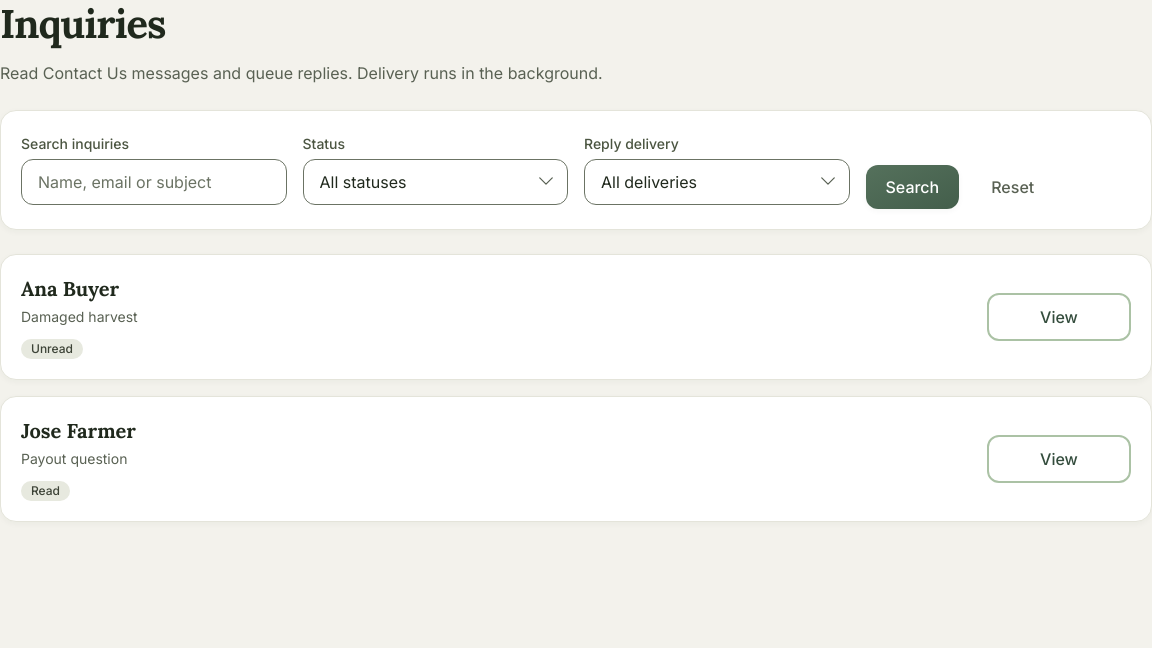
Test case: AdminInquiriesPage.vue › clears the draft when another inquiry is selected
This screenshot has width=1152, height=648.
Click the button "View" in the row of "Damaged harvest" at (1059, 317), box [987, 293, 1131, 341]
(page scrolled)
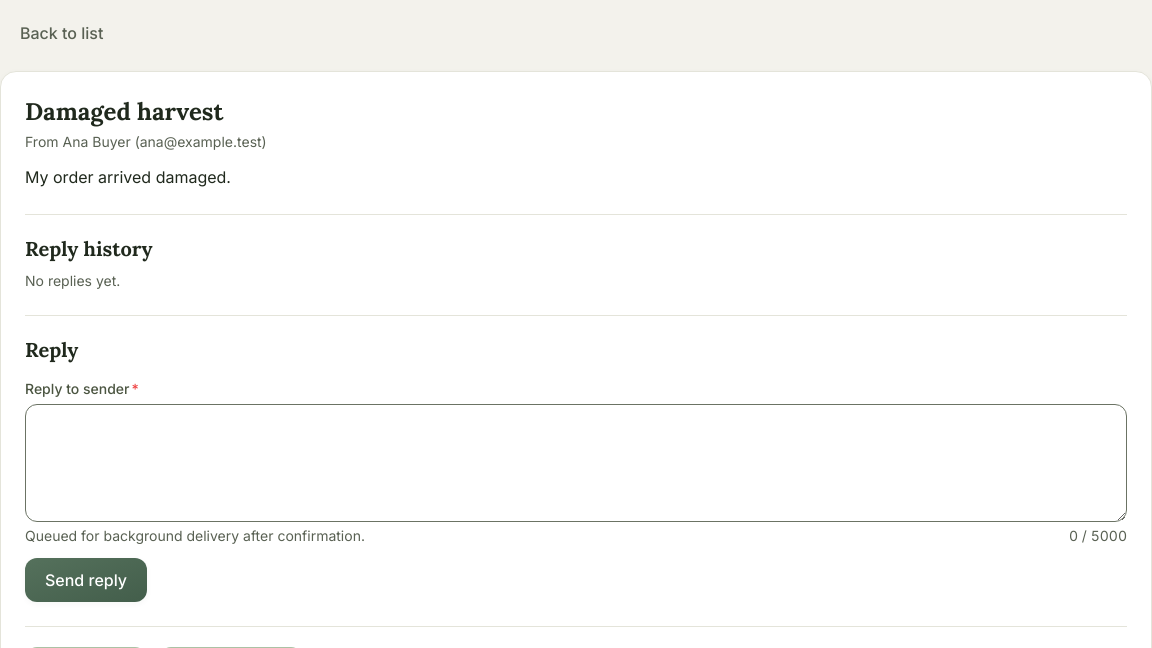
Type "Unsent draft." into the text box with id "admin-inquiry-reply" at (576, 463), box [25, 404, 1127, 522]
(page scrolled)
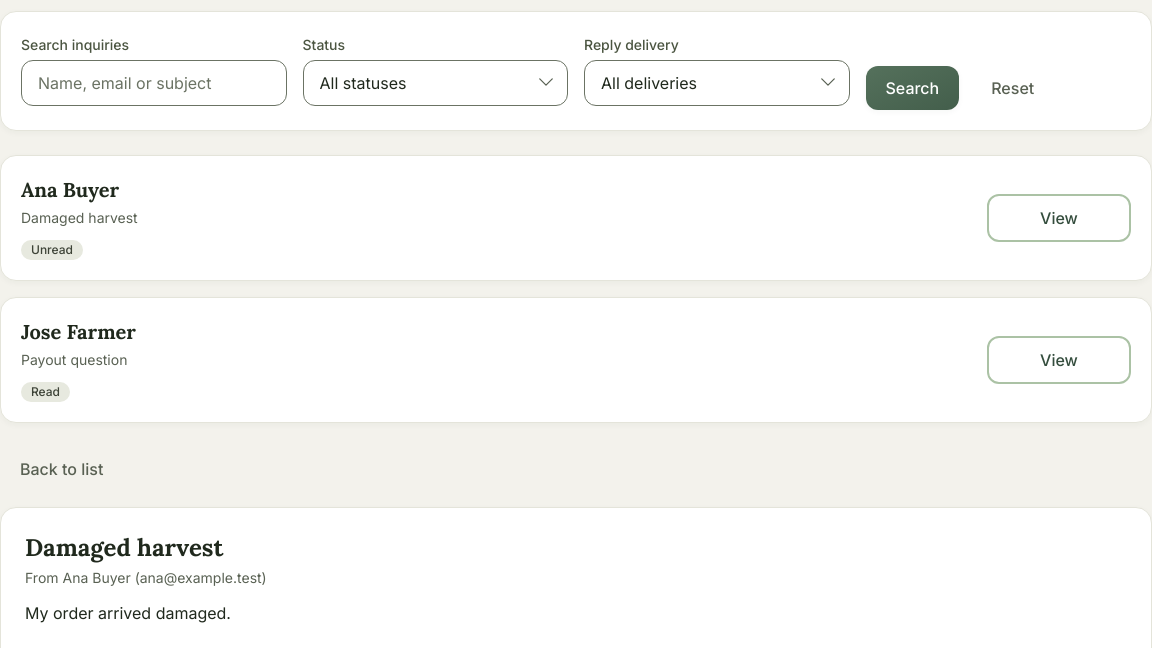
Click the button "View" in the row of "Jose Farmer" at (1059, 360), box [987, 336, 1131, 384]
(page scrolled)
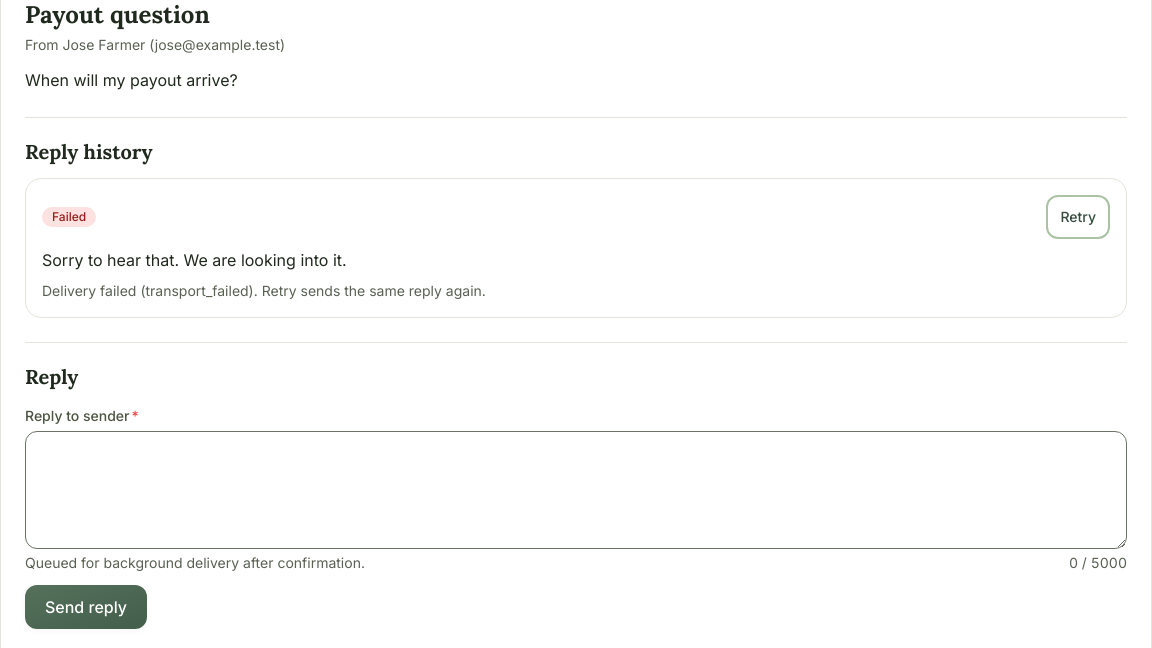
Now the element with test id "admin-inquiry-detail" shows "Payout question", box [25, 0, 210, 30]
